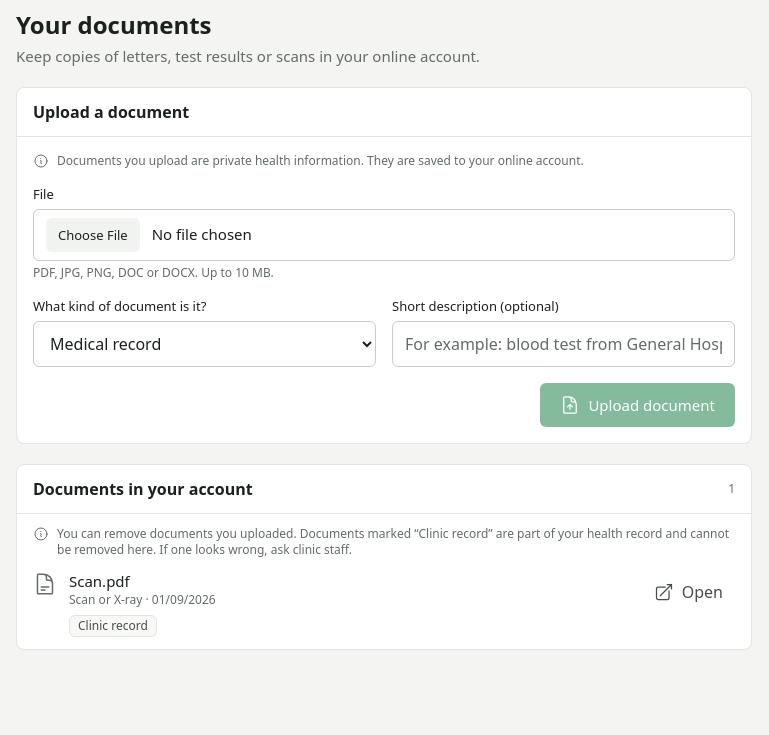
Test: DocumentUpload › says so, and closes the empty tab, when the file cannot be opened
This screenshot has width=769, height=735.
Click the button with aria-label "Open Scan.pdf" at [688, 592], box [642,570,735,614]
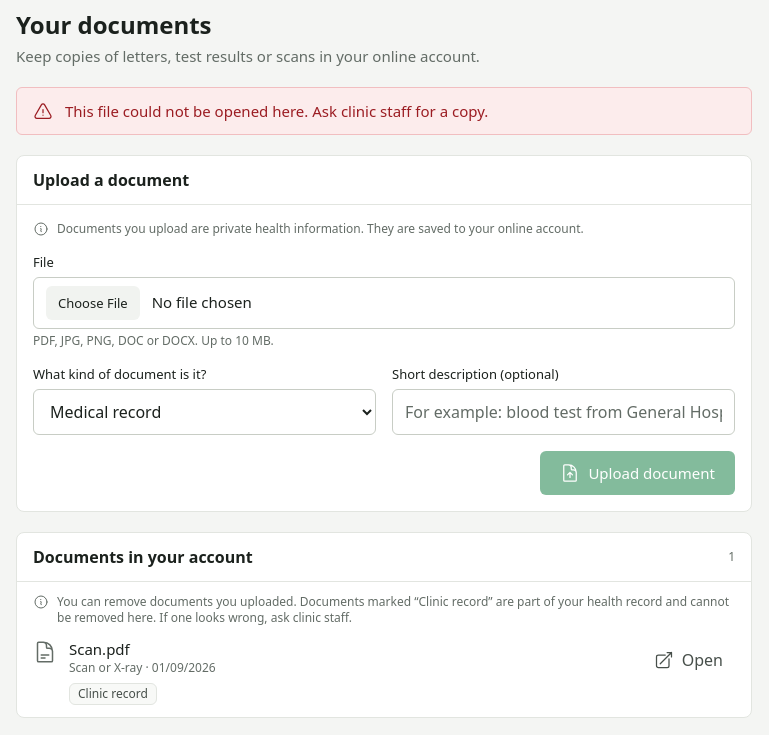
expect the text "This file could not be opened here. Ask clinic staff for a copy." is shown: met, box [65,100,488,122]
